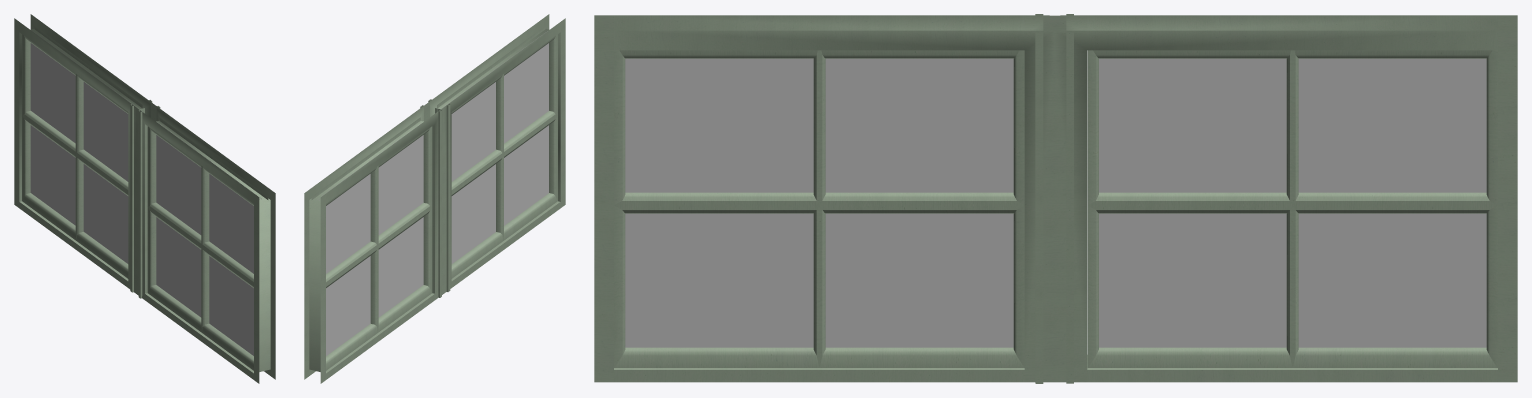
Rendered from SM_Wd22_Window.fbx.
3 views of the same model, side by side, from view 1: azimuth 30°, elevation 25°; view 2: azimuth 150°, elevation 25°; view 3: azimuth 270°, elevation 25° (orthographic). The views are drawn at different scales.
Parts seen in each view (by area): view 1: SM_Wd22_Window; view 2: SM_Wd22_Window; view 3: SM_Wd22_Window.
Boxes of the visible parts, x1,y1,x2,y2 form: SM_Wd22_Window: [14, 14, 275, 383]; SM_Wd22_Window: [304, 14, 565, 383]; SM_Wd22_Window: [594, 14, 1517, 383].
Bounding box in the file's own units: 11.02 × 236 × 99.07.
Materials: 2 (1 with a texture image).
